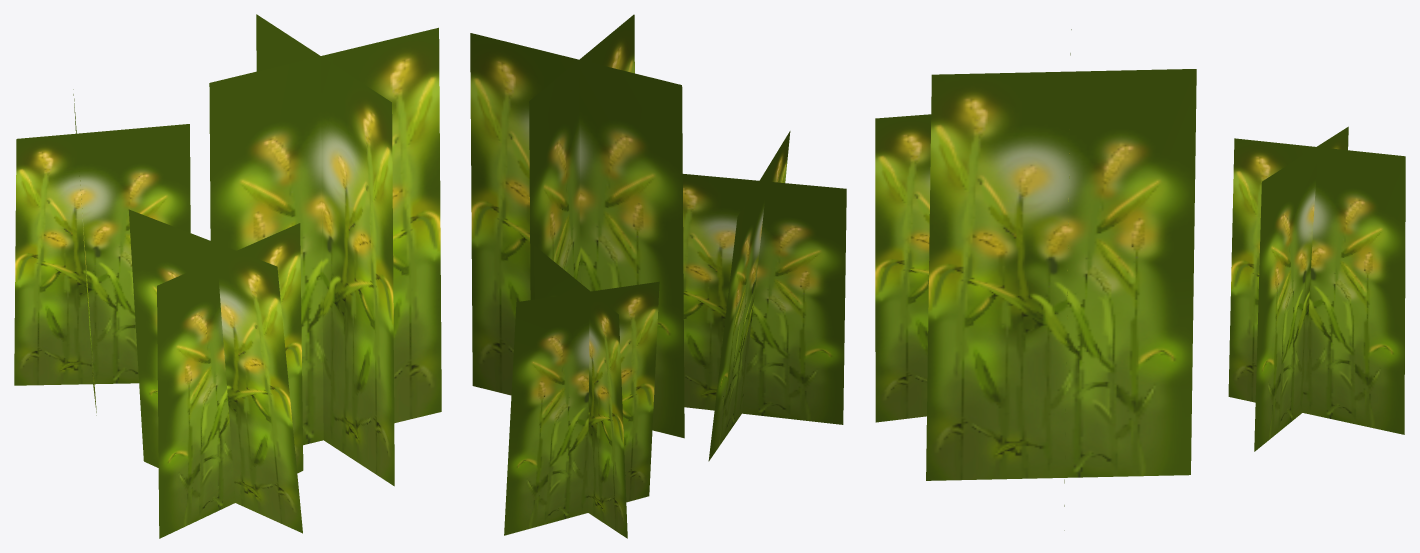
The model's file is daliang_field_v_s03.fbx.
The picture shows the model from 3 angles, left to right: view 1: azimuth 30°, elevation 25°; view 2: azimuth 150°, elevation 25°; view 3: azimuth 270°, elevation 25°; orthographic projection. The views are drawn at different scales.
Visible parts, largest first — view 1: daliang_field_v_s03_; view 2: daliang_field_v_s03_; view 3: daliang_field_v_s03_.
Part boxes in pixels (left/top/right/bottom): daliang_field_v_s03_: left=14, top=14, right=441, bottom=538; daliang_field_v_s03_: left=470, top=14, right=846, bottom=538; daliang_field_v_s03_: left=875, top=29, right=1405, bottom=530.
Bounding box in the file's own units: 179 × 191 × 225.
